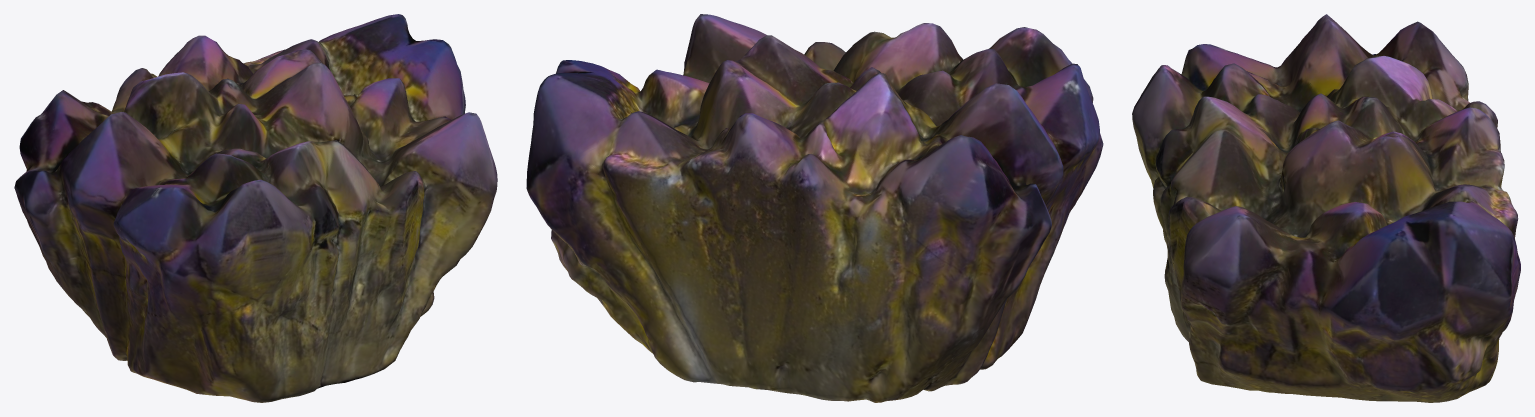
3 renders of one model, left to right at view 1: azimuth 30°, elevation 25°; view 2: azimuth 150°, elevation 25°; view 3: azimuth 270°, elevation 25°, orthographic. The views are drawn at different scales.
Parts seen in each view (by area): view 1: RM-0050; view 2: RM-0050; view 3: RM-0050.
Part boxes in pixels (x1,y1,x2,y2): RM-0050: (14,14,497,402); RM-0050: (526,14,1103,402); RM-0050: (1132,14,1520,402).
Bounding box in the file's own units: 0.0716 × 0.0418 × 0.0544.
1 material, 1 textured.
